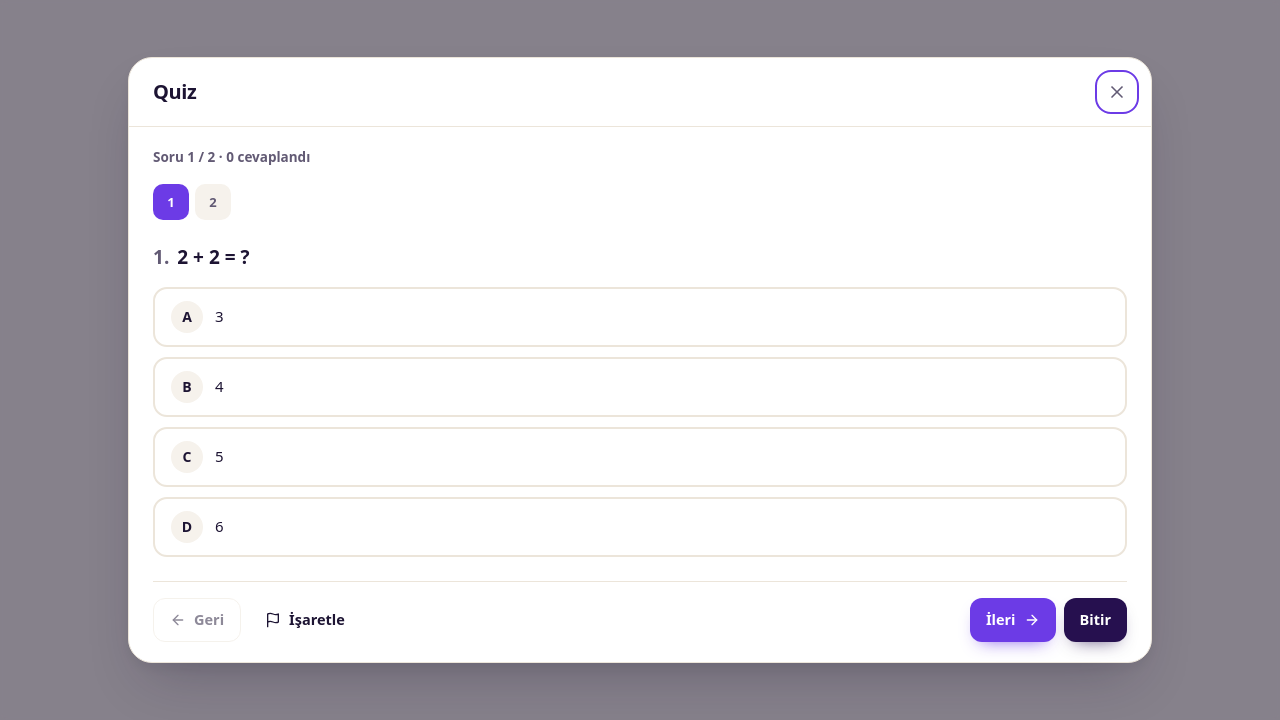
QuizPlayer with server grading › sends the answers and shows the result from the returned answer key
The image size is (1280, 720).
Click the radio button labelled "4" at {"x": 187, "y": 387}, box left=153, top=356, right=1127, bottom=416
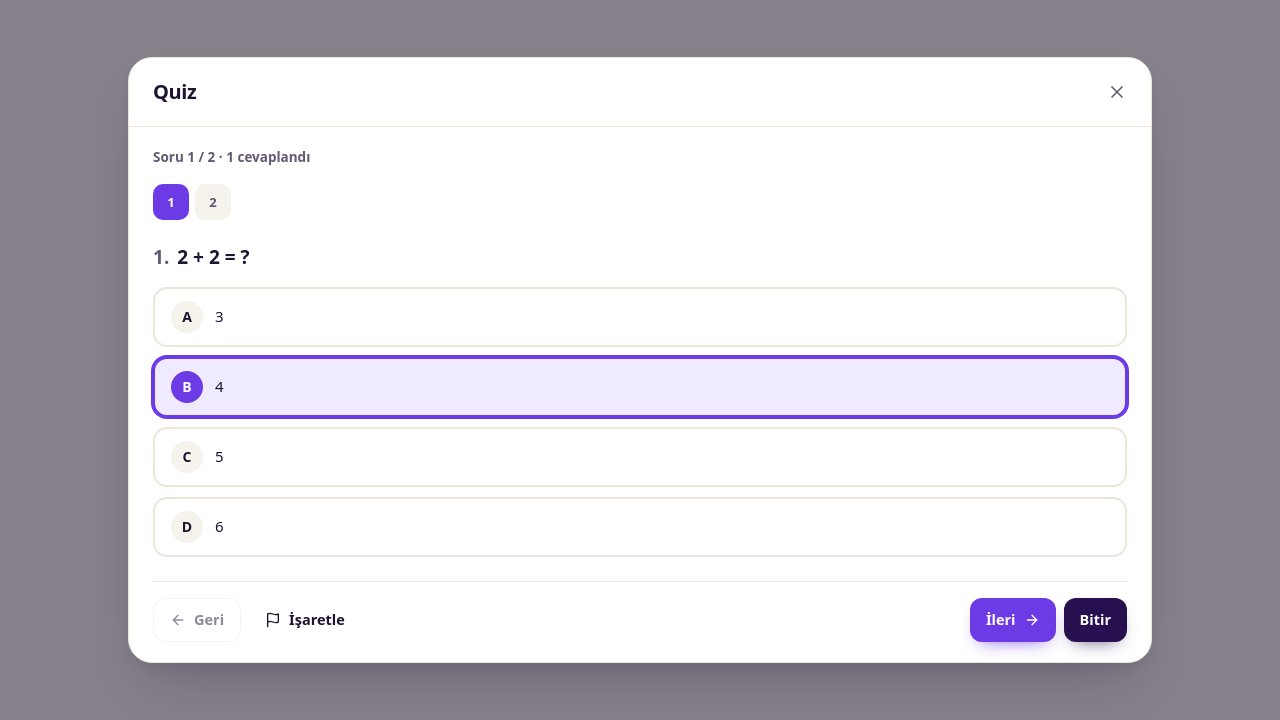
Click the button "İleri" at {"x": 1013, "y": 620}, box left=970, top=598, right=1056, bottom=642
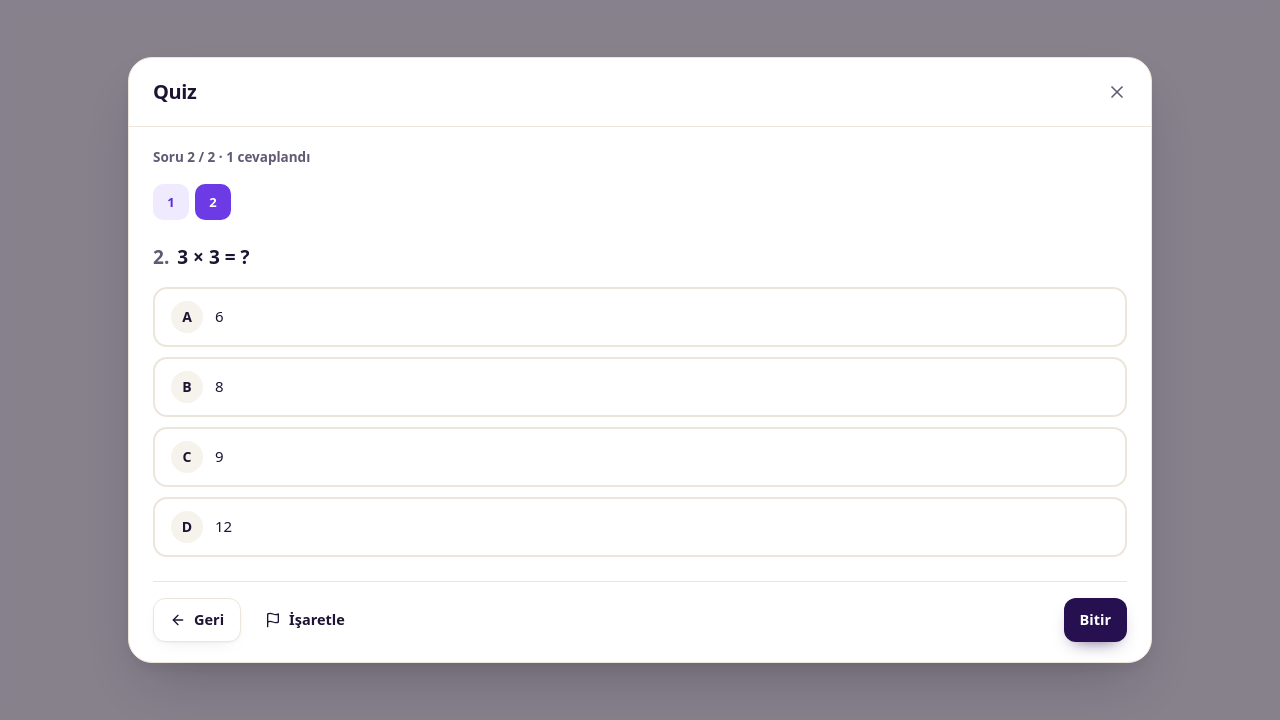
Click the radio button labelled "8" at {"x": 187, "y": 387}, box left=153, top=356, right=1127, bottom=416
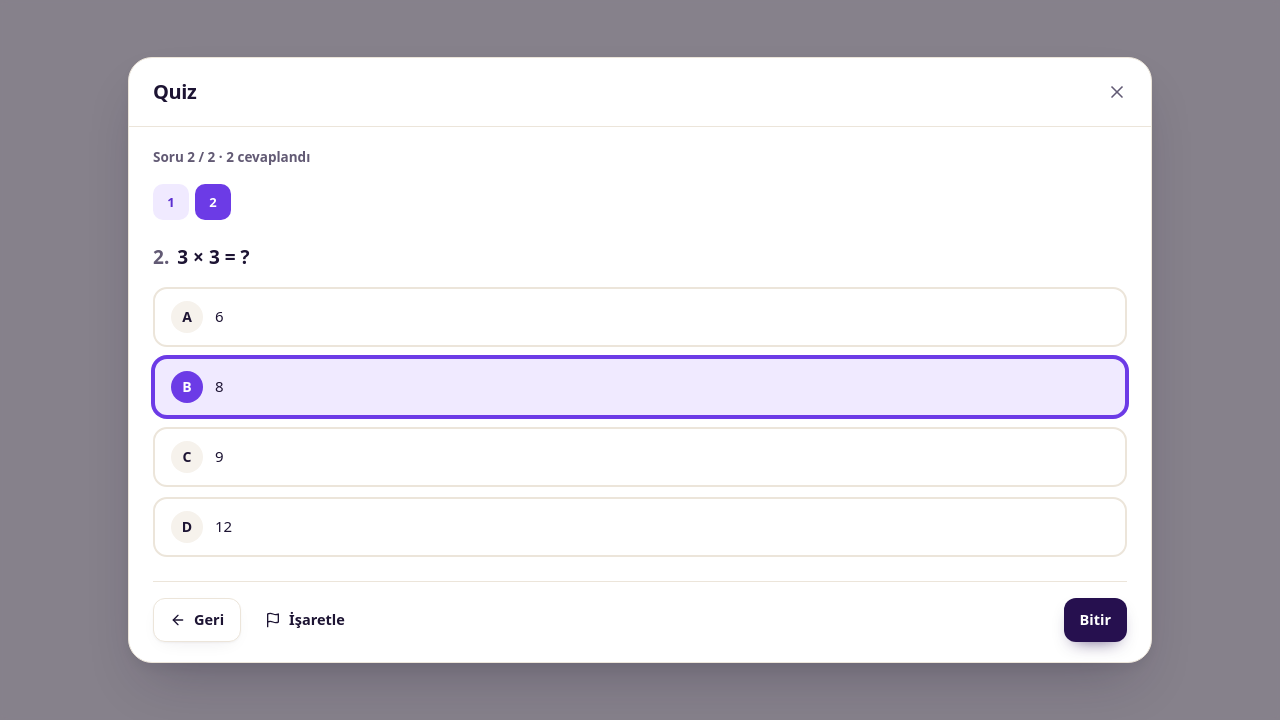
Click the button "Bitir" at {"x": 1095, "y": 620}, box left=1064, top=598, right=1127, bottom=642
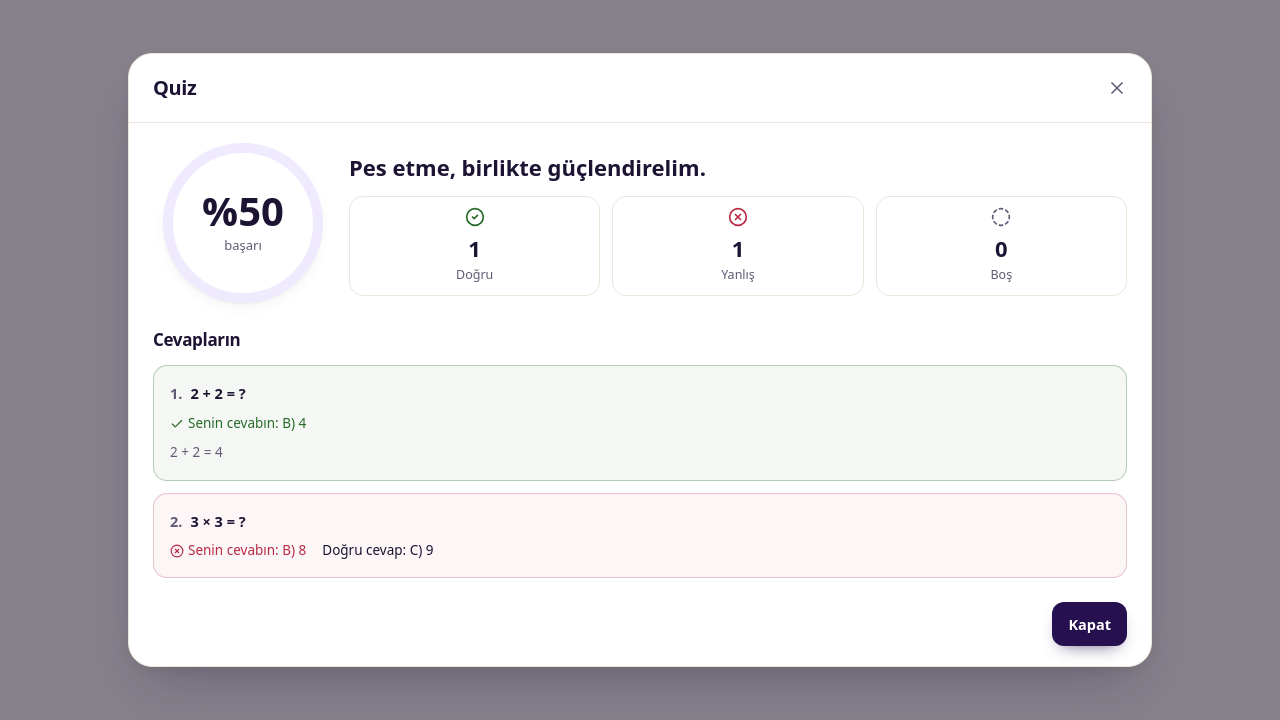
Now the text "%50" is shown, box left=202, top=191, right=284, bottom=231
Now the text "2 + 2 = 4" is shown, box left=170, top=443, right=223, bottom=461
Now the text "Doğru cevap: C) 9" is shown, box left=322, top=540, right=434, bottom=561
